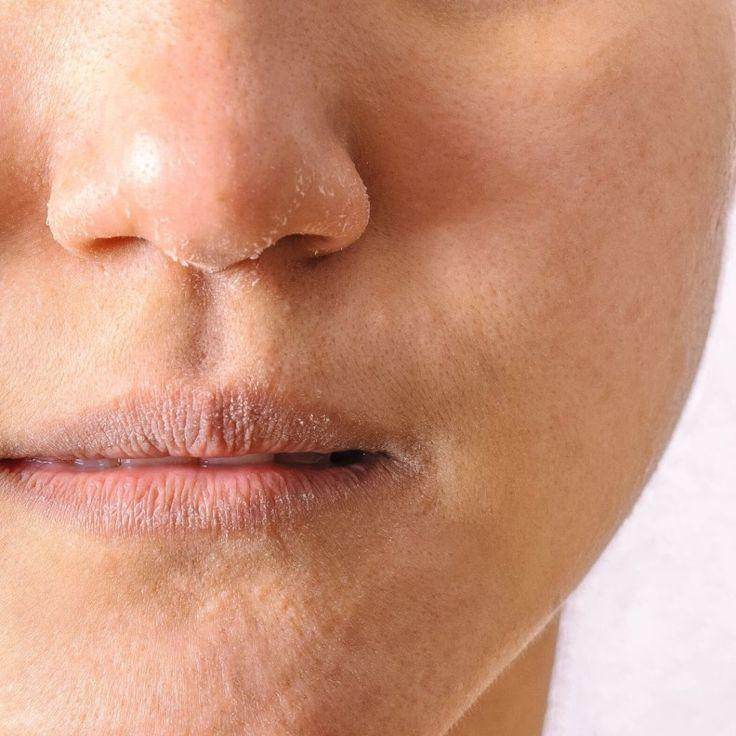Dry-Skin: (73, 533, 387, 640), (121, 221, 312, 324), (17, 125, 163, 224)
